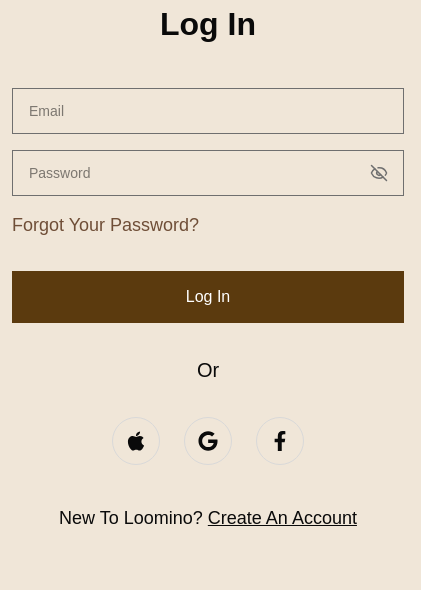
it: Authentication flow (integration) › shows Zod validation errors on empty login submit
Click the button "Log In": (208, 297) [12,271,404,323]
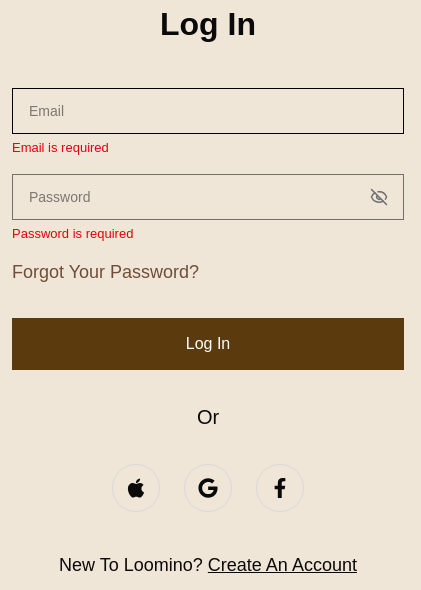
Expected: the text "Email is required" is shown, [12,140,109,155]
Expected: the text "Password is required" is shown, [12,226,133,240]
